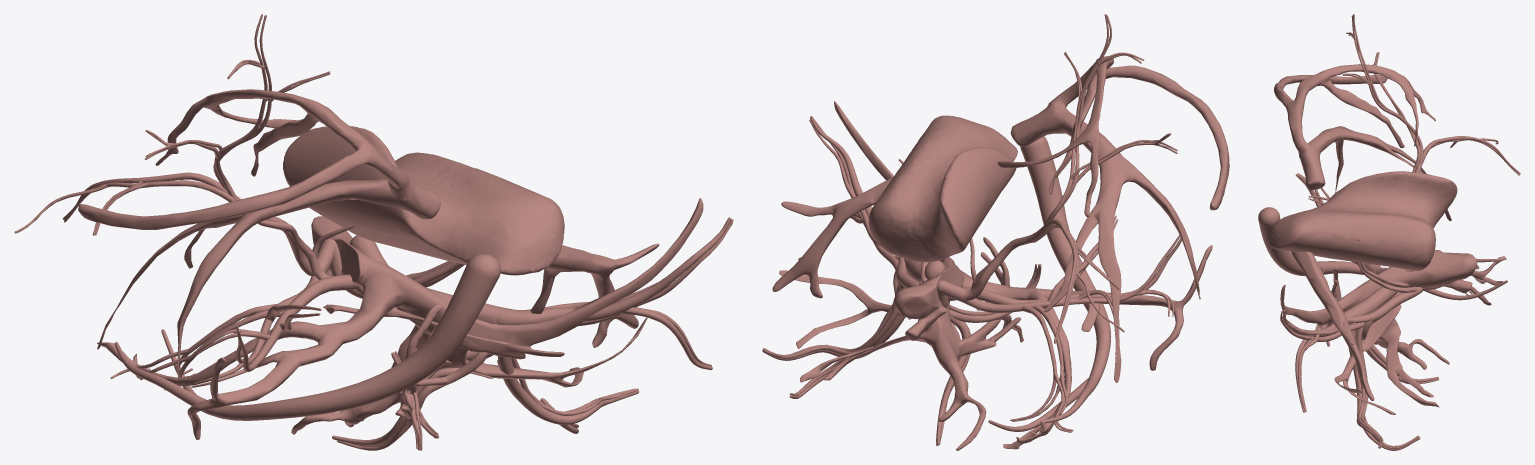
File: liver.glb
The picture shows the model from 3 angles, left to right: view 1: azimuth 30°, elevation 25°; view 2: azimuth 150°, elevation 25°; view 3: azimuth 270°, elevation 25°; orthographic projection. The views are drawn at different scales.
Parts seen in each view (by area): view 1: left lobe of liver, right lobe of liver; view 2: left lobe of liver, right lobe of liver; view 3: left lobe of liver, right lobe of liver.
Boxes of the visible parts, x1,y1,x2,y2 form: left lobe of liver: (97, 126, 733, 450); right lobe of liver: (14, 14, 500, 420); left lobe of liver: (762, 101, 1212, 450); right lobe of liver: (937, 14, 1229, 434); left lobe of liver: (1267, 171, 1506, 450); right lobe of liver: (1258, 14, 1520, 300).
Bounding box in the file's own units: 166 × 144 × 104.
